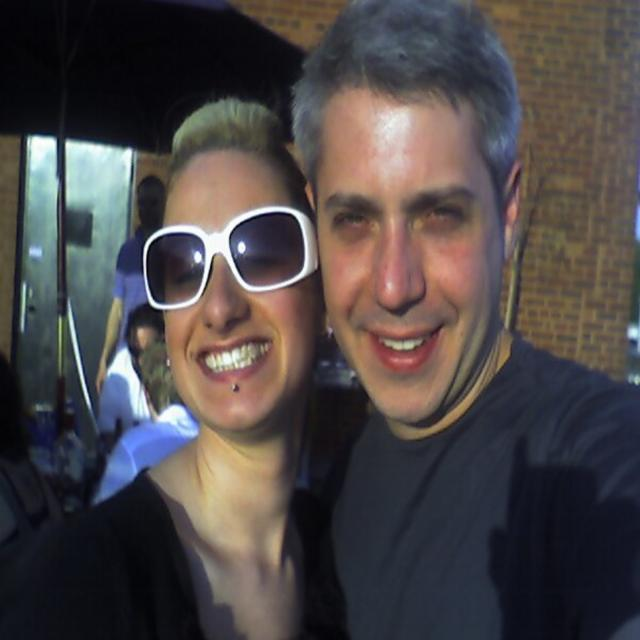Glasses: (126, 221, 309, 318)
